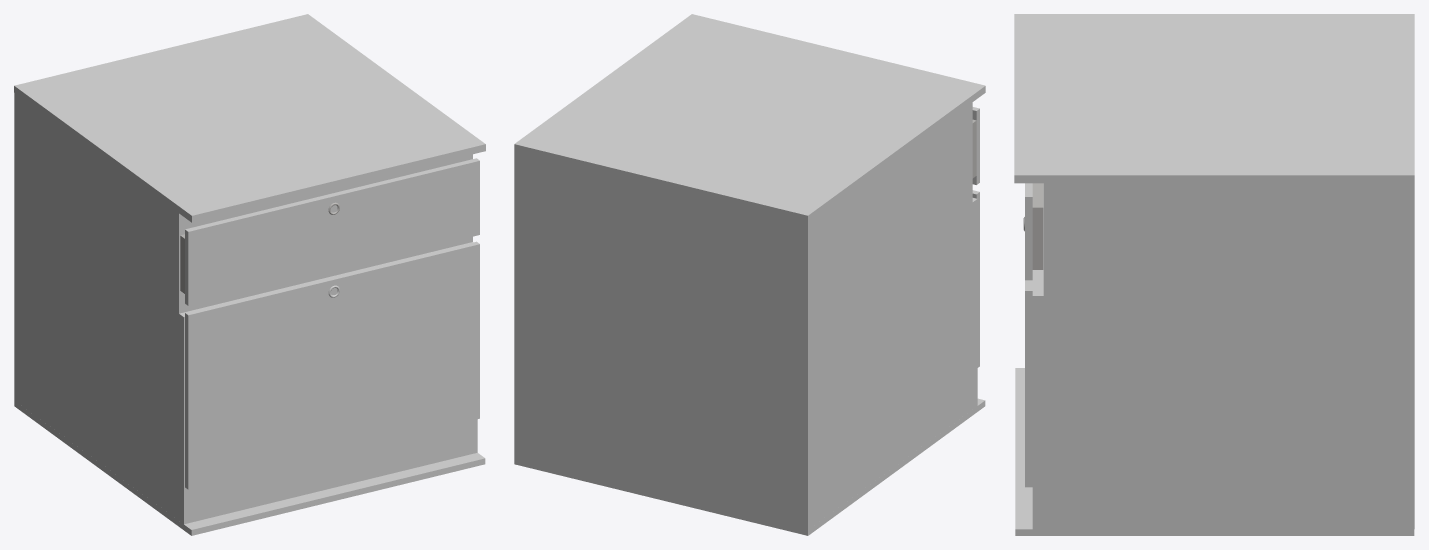
Rendered from EncimeraVerde.fbx.
3 views of the same model, side by side, from view 1: azimuth 30°, elevation 25°; view 2: azimuth 150°, elevation 25°; view 3: azimuth 270°, elevation 25° (orthographic). The views are drawn at different scales.
Parts seen in each view (by area): view 1: Cube, Cube.001, Cube.003, Cube.002, Cube.053; view 2: Cube, Cube.001, Cube.053, Cube.003; view 3: Cube, Cube.001, Cube.053, Cube.003, Cube.004, Cube.002.
Boxes of the visible parts, box(x1,y1,x2,y2) form: Cube: box(14, 93, 477, 524); Cube.001: box(14, 14, 485, 222); Cube.003: box(185, 241, 479, 489); Cube.002: box(185, 158, 479, 305); Cube.053: box(14, 400, 485, 535); Cube: box(514, 102, 977, 529); Cube.001: box(514, 14, 985, 222); Cube.053: box(514, 398, 985, 535); Cube.003: box(972, 190, 979, 367); Cube: box(1032, 183, 1414, 529); Cube.001: box(1014, 14, 1414, 183); Cube.053: box(1015, 368, 1414, 535); Cube.003: box(1025, 280, 1032, 487); Cube.004: box(1032, 183, 1043, 269); Cube.002: box(1025, 183, 1032, 280).
Size of the model in its own units: 70 by 72.94 by 73.36.
